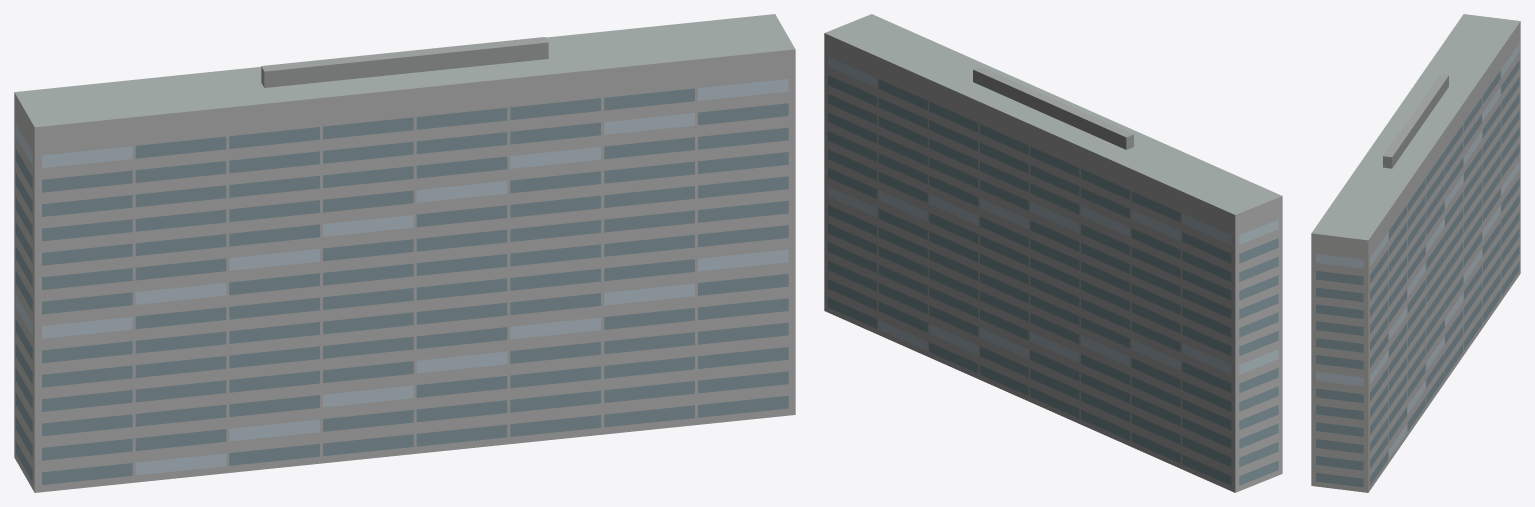
File: fallback-olympic-park-foreon-210.glb
The picture shows the model from 3 angles, left to right: view 1: azimuth 30°, elevation 25°; view 2: azimuth 150°, elevation 25°; view 3: azimuth 270°, elevation 25°; orthographic projection. The views are drawn at different scales.
Parts seen in each view (by area): view 1: fallback-olympic-park-foreon-210; view 2: fallback-olympic-park-foreon-210; view 3: fallback-olympic-park-foreon-210.
Boxes of the visible parts, x1,y1,x2,y2 form: fallback-olympic-park-foreon-210: (14,14,795,492); fallback-olympic-park-foreon-210: (824,14,1282,492); fallback-olympic-park-foreon-210: (1311,14,1520,492).
Bounding box in the file's own units: 87.95 × 47.81 × 34.36.
